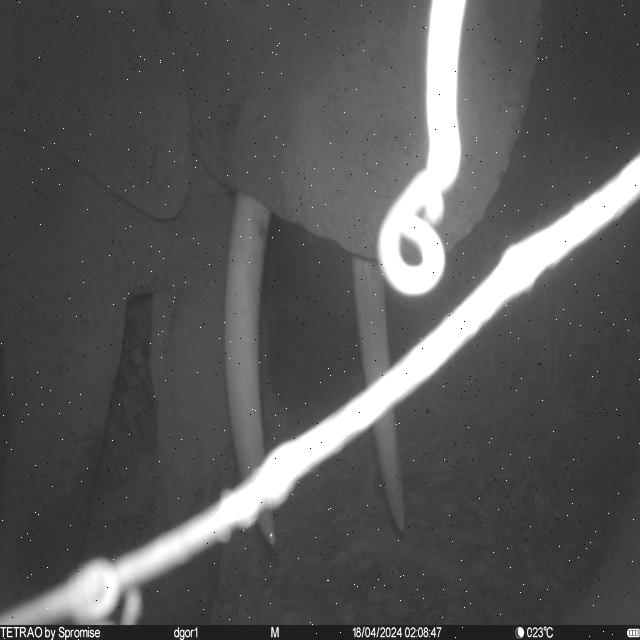ear: (2, 0, 197, 223)
elephant: (0, 0, 540, 624)
tusk: (222, 192, 280, 547), (350, 251, 410, 538)
